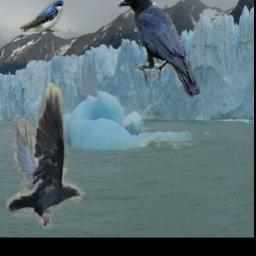Crow: (7, 83, 84, 228), (117, 0, 201, 99)
Swallow: (21, 0, 64, 32)
